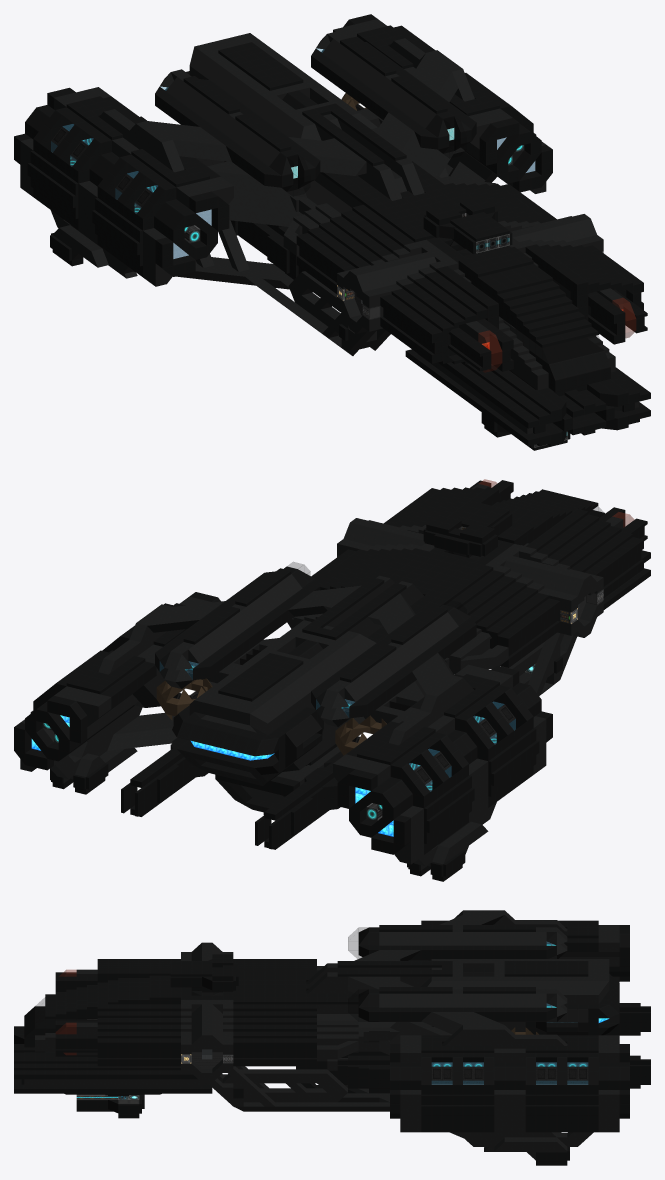
Rendered from cruiser.glb.
The picture shows the model from 3 angles, top to bottom: view 1: azimuth 30°, elevation 25°; view 2: azimuth 150°, elevation 25°; view 3: azimuth 270°, elevation 25°; orthographic projection. The views are drawn at different scales.
Parts seen in each view (by area): view 1: Object_4, Object_6, Object_5; view 2: Object_4, Object_6, Object_5; view 3: Object_4, Object_6, Object_5.
Boxes of the visible parts, <box> form: Object_4: <box>14,14,650,450</box>; Object_6: <box>20,19,638,434</box>; Object_5: <box>52,124,603,447</box>; Object_4: <box>14,479,650,881</box>; Object_6: <box>20,484,638,870</box>; Object_5: <box>42,526,603,820</box>; Object_4: <box>14,920,650,1165</box>; Object_6: <box>24,910,619,1160</box>; Object_5: <box>76,942,588,1103</box>.
Bounding box in the file's own units: 36 × 15.75 × 61.
Materials: 5 (5 with a texture image).
